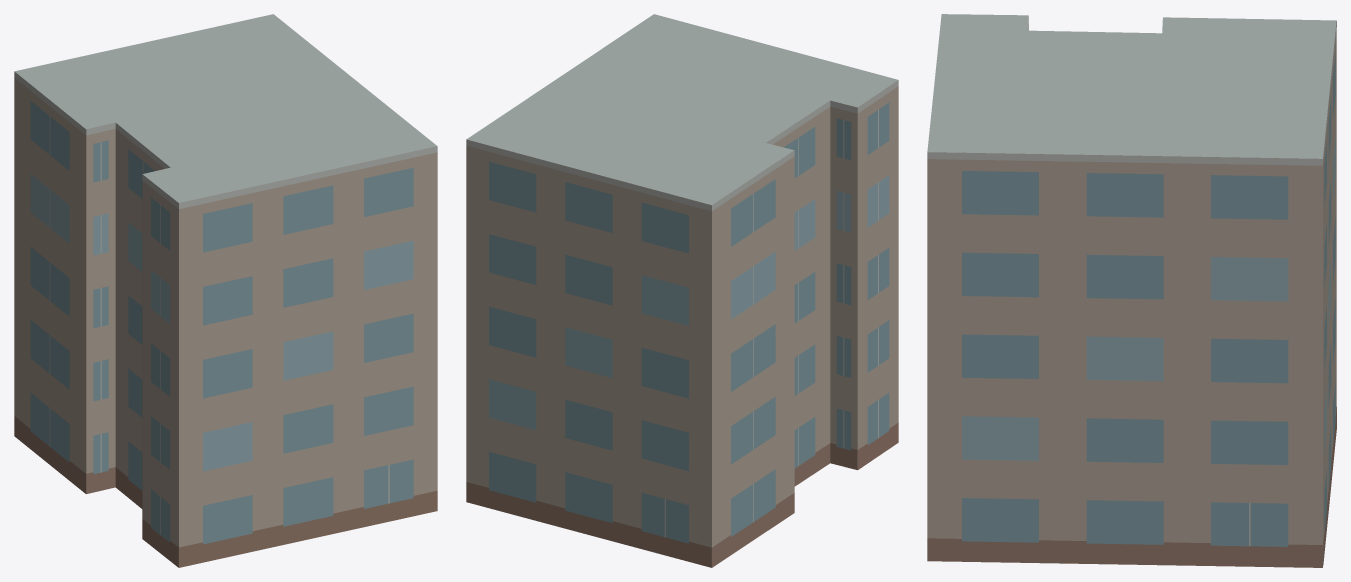
The model's file is survey-upis-32955505.glb.
3 renders of one model, left to right at view 1: azimuth 30°, elevation 25°; view 2: azimuth 150°, elevation 25°; view 3: azimuth 270°, elevation 25°, orthographic. The views are drawn at different scales.
Parts seen in each view (by area): view 1: survey-upis-32955505.tmp; view 2: survey-upis-32955505.tmp; view 3: survey-upis-32955505.tmp.
Part boxes in pixels (x1=…): survey-upis-32955505.tmp: x1=14, y1=14, x2=437, y2=567; survey-upis-32955505.tmp: x1=466, y1=14, x2=898, y2=567; survey-upis-32955505.tmp: x1=927, y1=14, x2=1336, y2=567.
Size of the model in its own units: 11.02 by 14.5 by 13.16.
